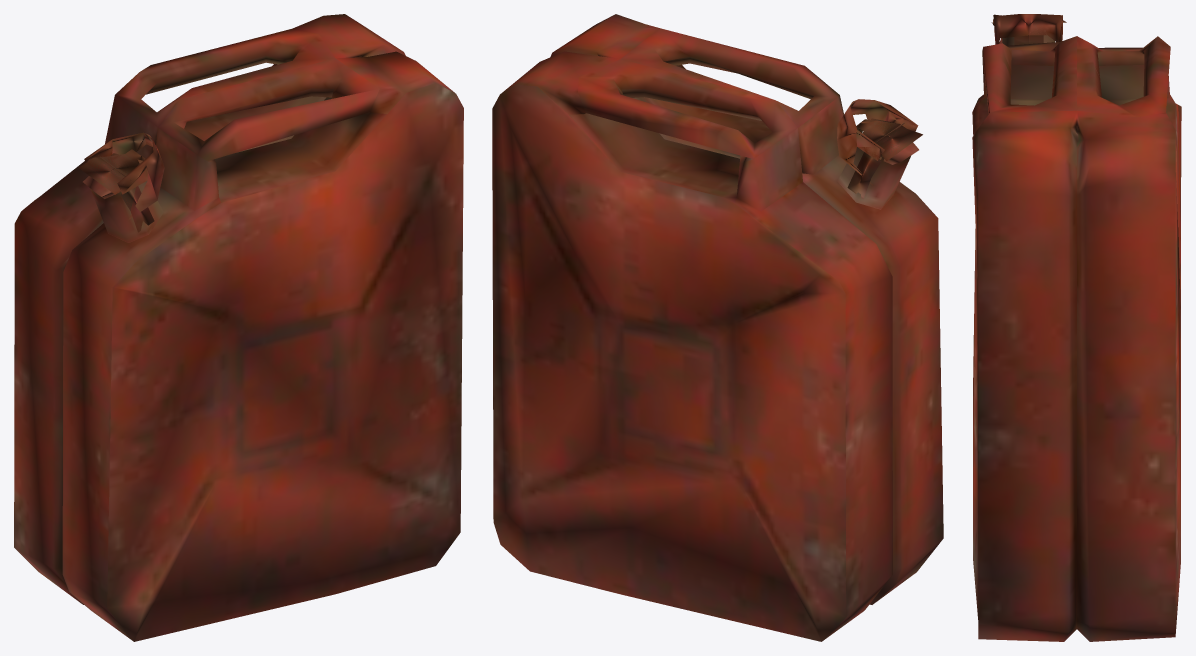
File: jerrycan_lo.glb
3 views of the same model, side by side, from view 1: azimuth 30°, elevation 25°; view 2: azimuth 150°, elevation 25°; view 3: azimuth 270°, elevation 25° (orthographic). The views are drawn at different scales.
Parts seen in each view (by area): view 1: metal_jerrycan; view 2: metal_jerrycan; view 3: metal_jerrycan.
Part boxes in pixels (x1,y1,x2,y2): metal_jerrycan: (14, 14, 463, 641); metal_jerrycan: (492, 14, 943, 641); metal_jerrycan: (972, 14, 1181, 641).
Bounding box in the file's own units: 0.3465 × 0.4524 × 0.1692.
Materials: 1 (1 with a texture image).
